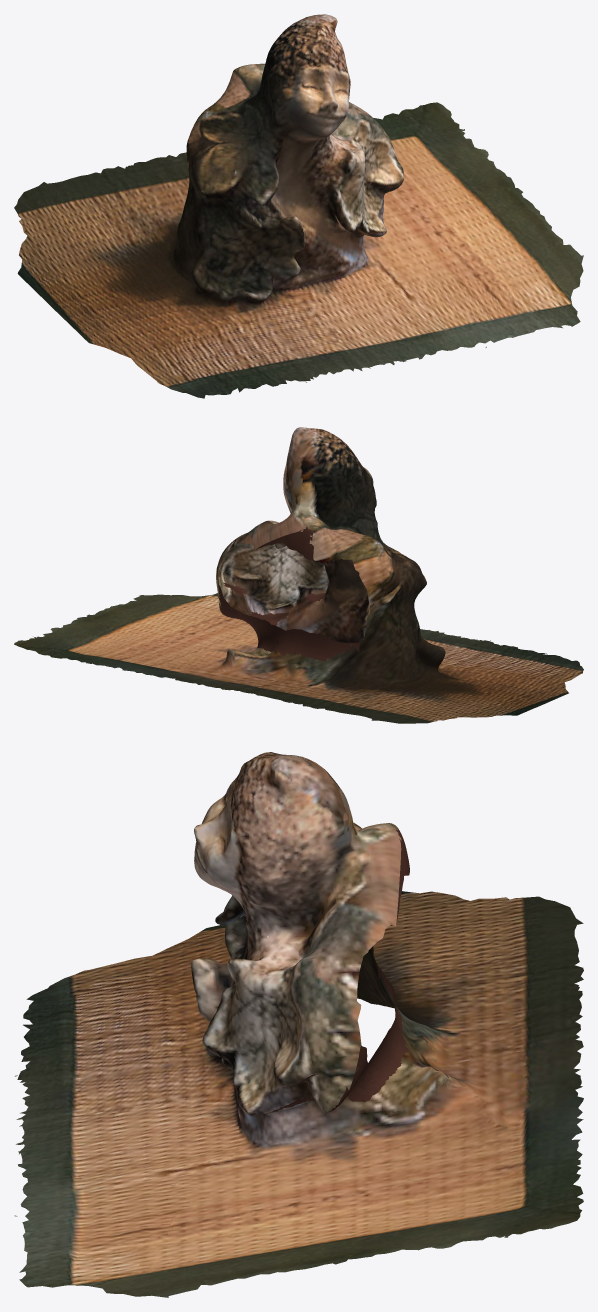
File: noefy.obj
The picture shows the model from 3 angles, top to bottom: view 1: azimuth 30°, elevation 25°; view 2: azimuth 150°, elevation 25°; view 3: azimuth 270°, elevation 25°; orthographic projection. The views are drawn at different scales.
Visible parts, largest first — view 1: noefy; view 2: noefy; view 3: noefy.
Boxes of the visible parts, box(x1,y1,x2,y2) form: noefy: box(14, 14, 583, 398); noefy: box(14, 427, 583, 723); noefy: box(14, 752, 583, 1297).
Size of the model in its own units: 33.87 by 18.67 by 23.6.
1 material, 1 textured.
